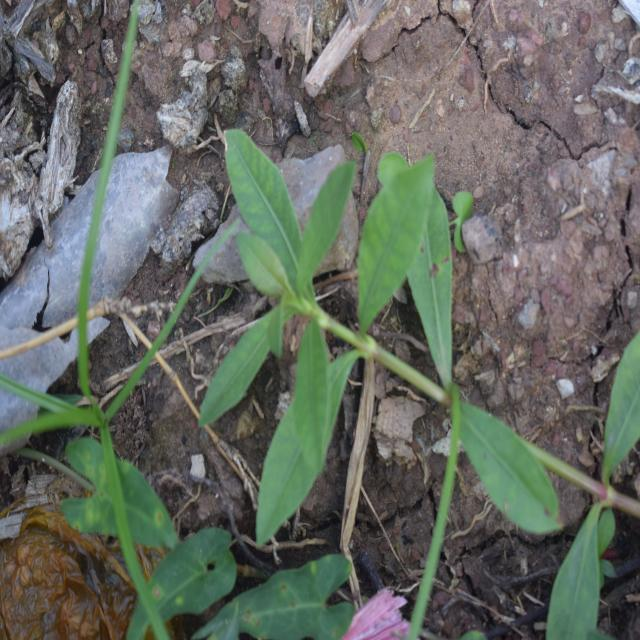Alligatorweed: (204, 128, 544, 540)
